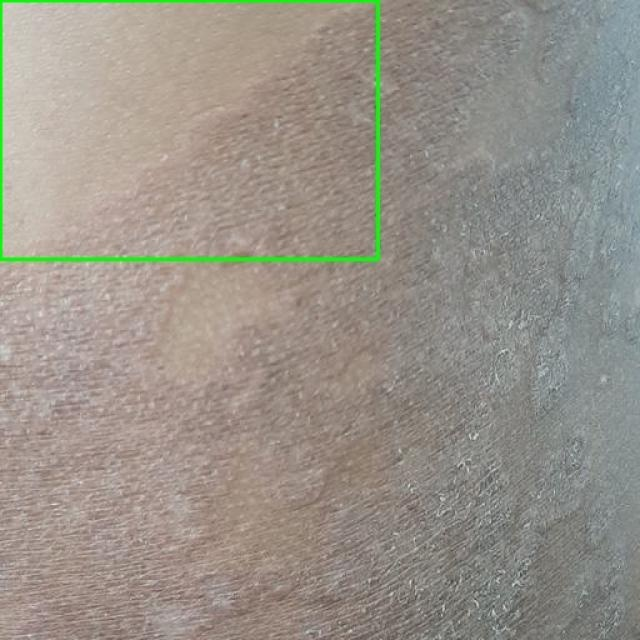Tinea Corporis: (0, 0, 378, 259)
